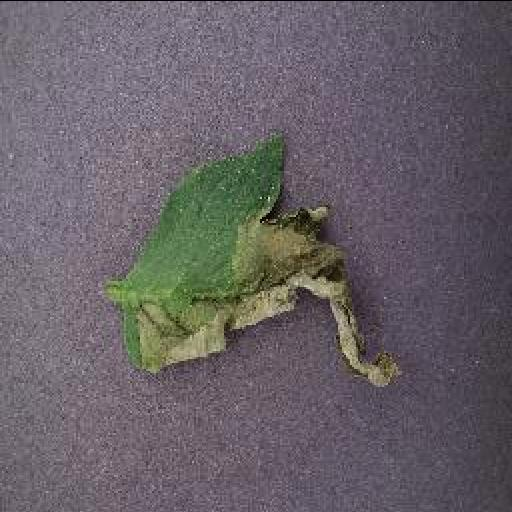disease_tomato: (118, 134, 402, 388)
